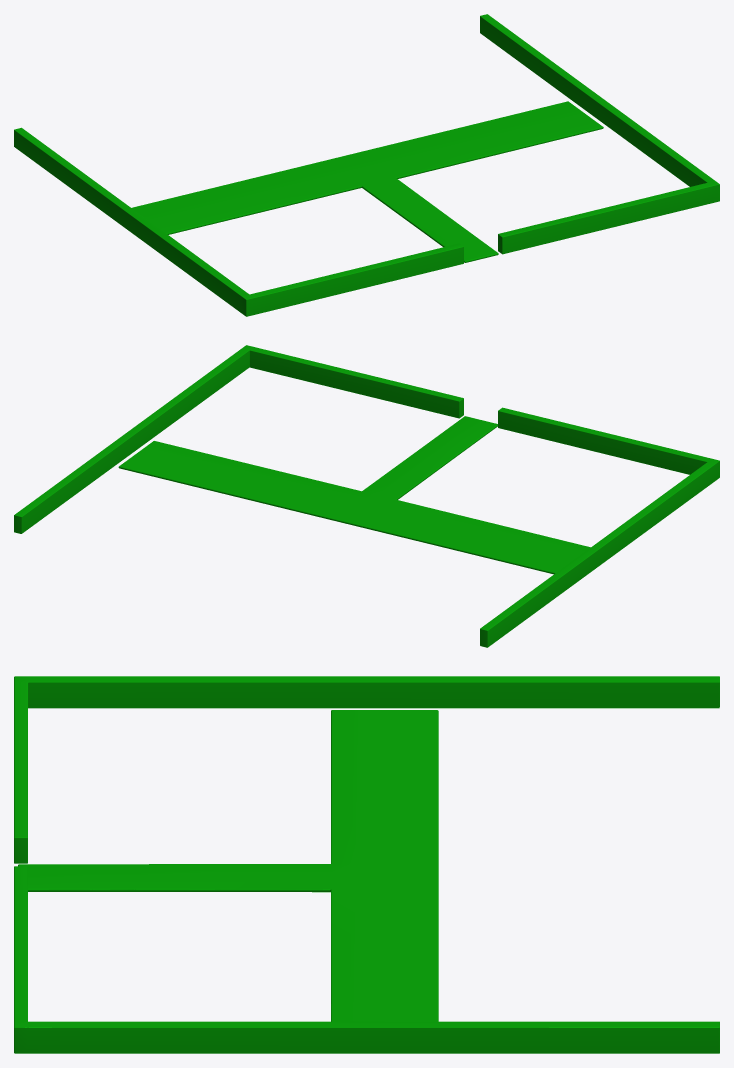
The model's file is School_Pathways.fbx.
3 renders of one model, top to bottom at view 1: azimuth 30°, elevation 25°; view 2: azimuth 150°, elevation 25°; view 3: azimuth 270°, elevation 25°, orthographic. The views are drawn at different scales.
Visible parts, largest first — view 1: School_Wall, Courtyard; view 2: School_Wall, Courtyard; view 3: School_Wall, Courtyard.
Part boxes in pixels (x1=…): School_Wall: x1=14, y1=14, x2=719, y2=316; Courtyard: x1=132, y1=101, x2=603, y2=262; School_Wall: x1=14, y1=345, x2=719, y2=647; Courtyard: x1=118, y1=416, x2=590, y2=574; School_Wall: x1=14, y1=676, x2=719, y2=1053; Courtyard: x1=18, y1=710, x2=438, y2=1021.
Size of the model in its own units: 295 by 10.97 by 251.
